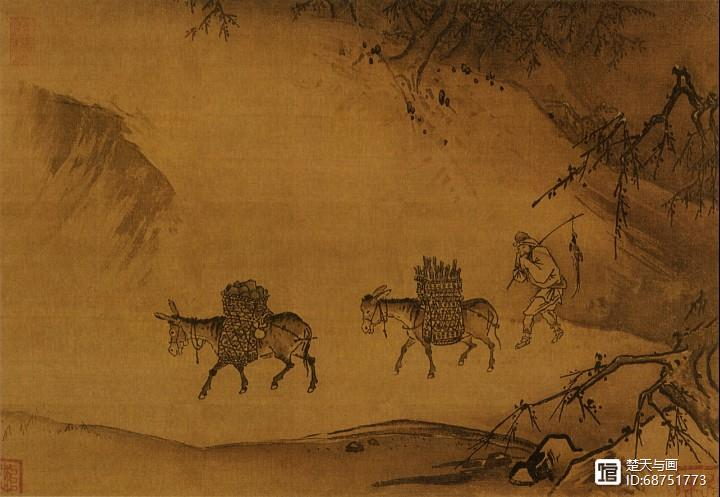horse: (158, 301, 321, 402), (356, 283, 500, 375)
man: (502, 227, 566, 356)
